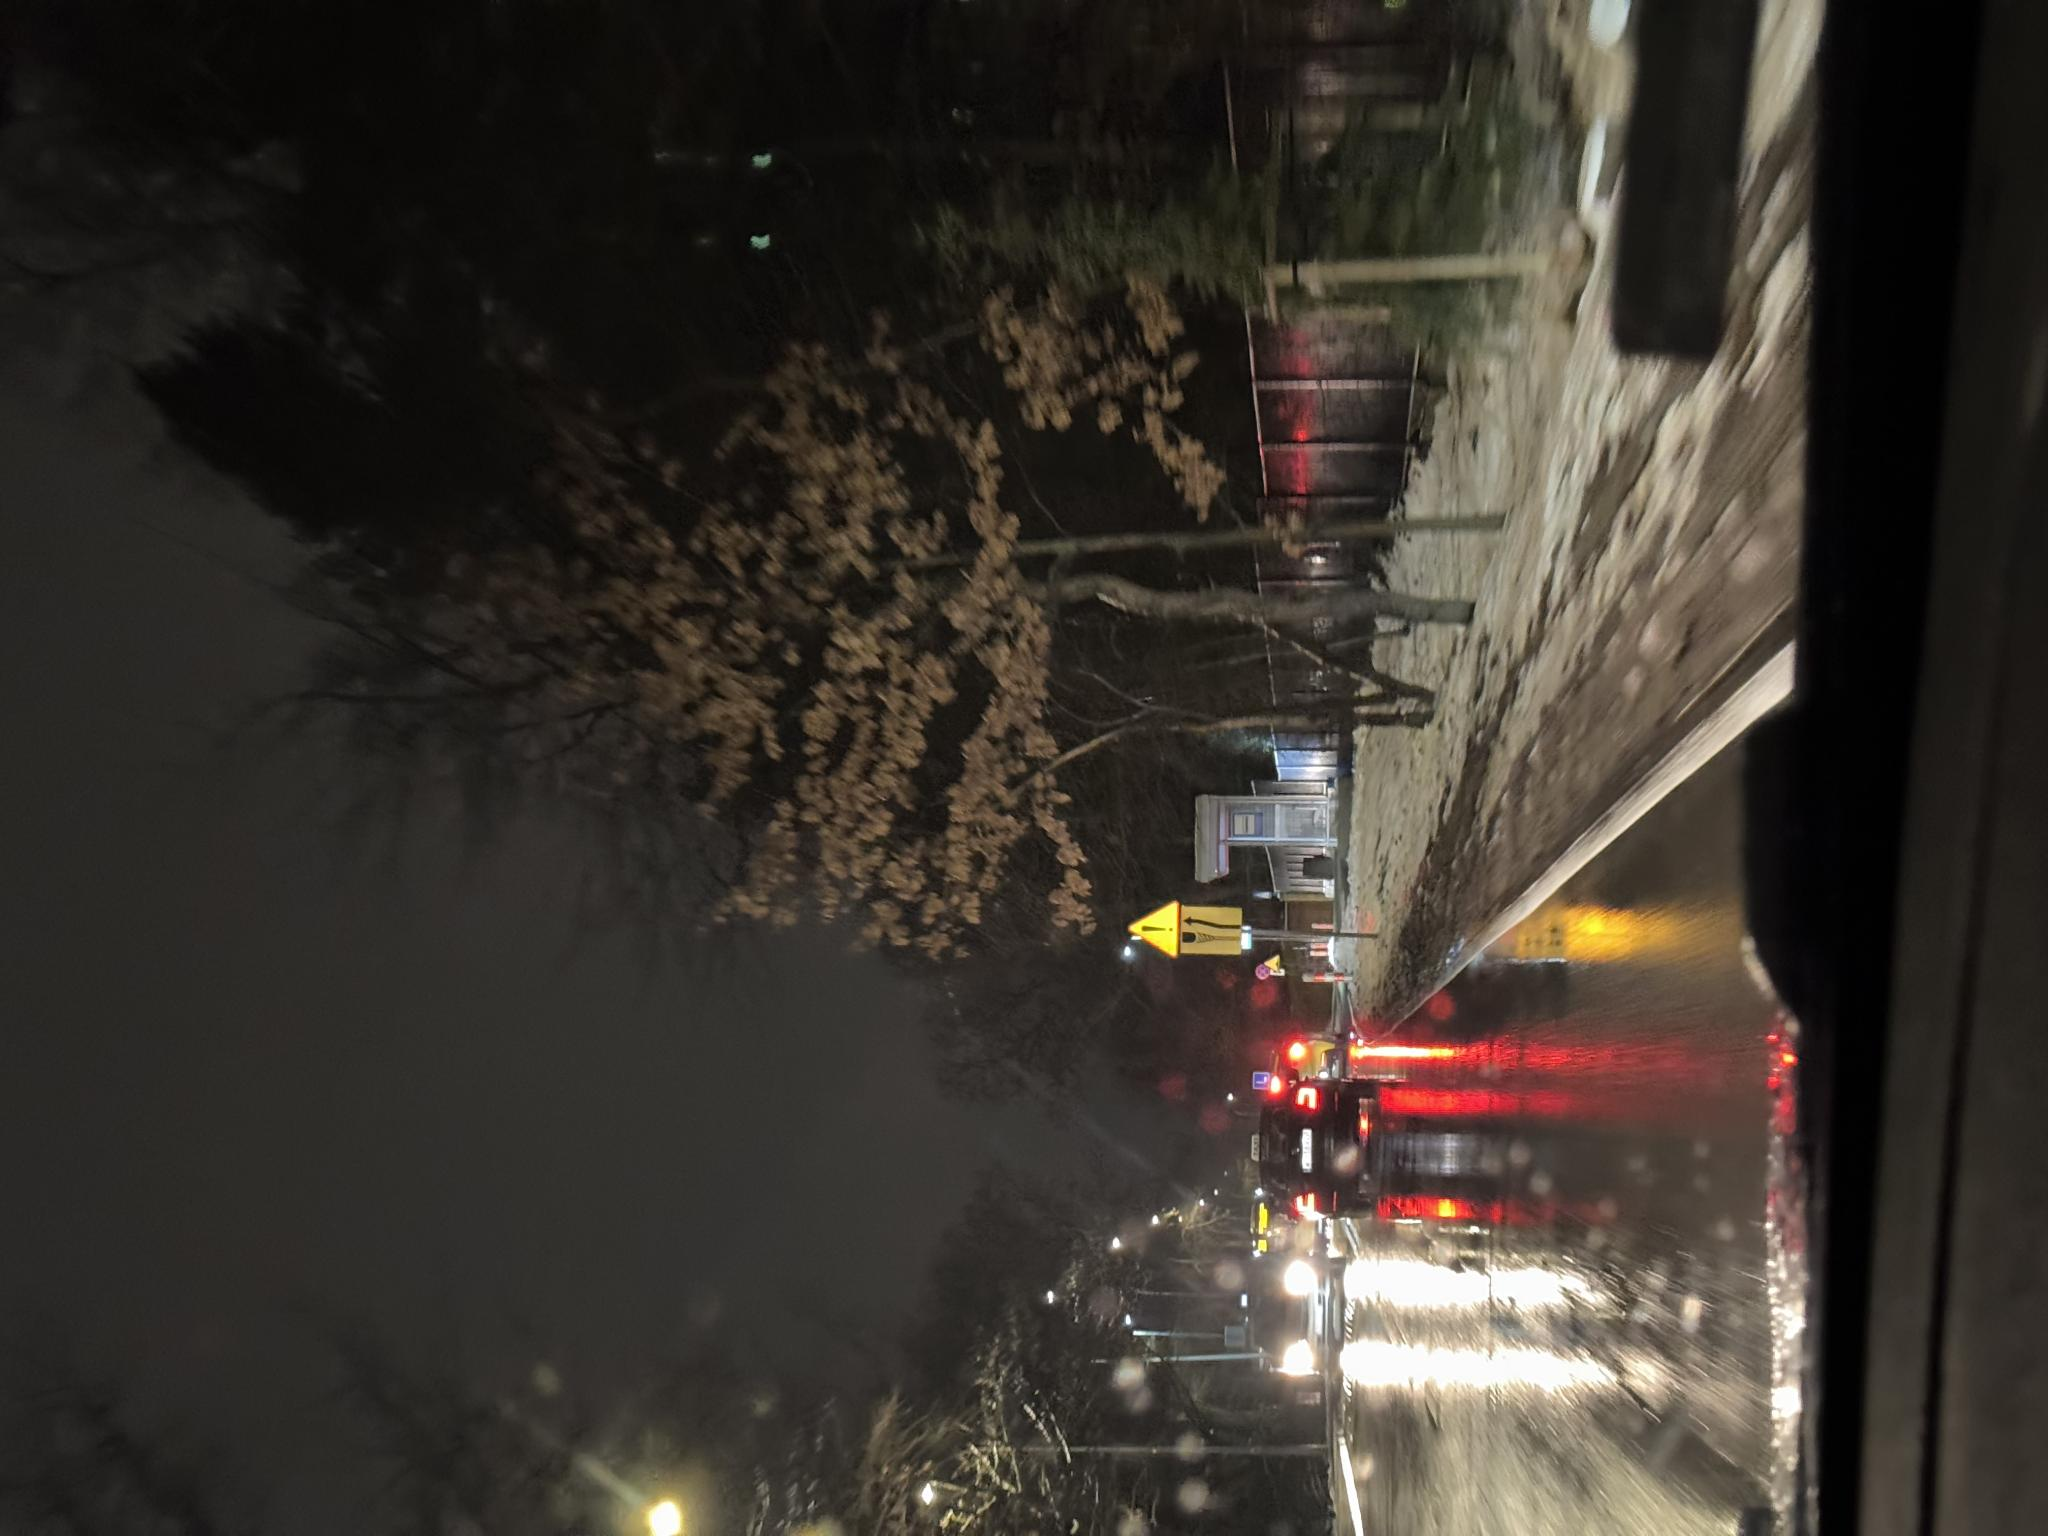other: (579, 1179, 631, 1242)
prohibitory: (556, 1255, 571, 1270)
warning: (576, 1128, 635, 1179), (564, 1263, 582, 1279)
